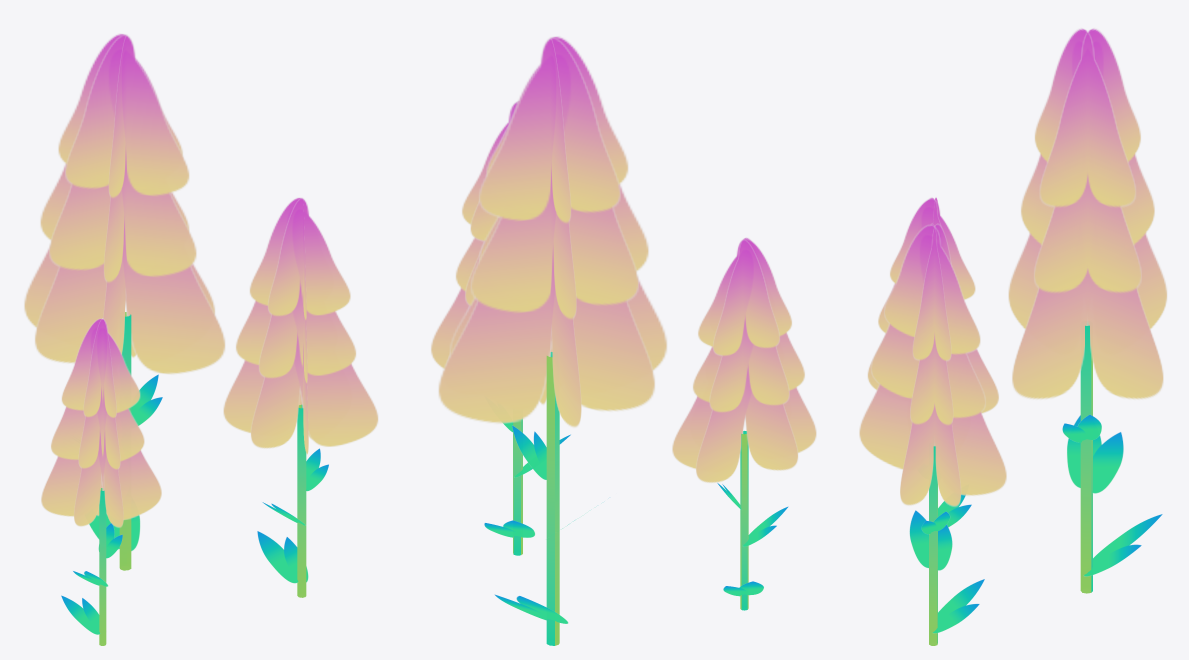
The model's file is Flowers_n02_11.glb.
3 views of the same model, side by side, from view 1: azimuth 30°, elevation 25°; view 2: azimuth 150°, elevation 25°; view 3: azimuth 270°, elevation 25° (orthographic). The views are drawn at different scales.
Visible parts, largest first — view 1: polySurface193; view 2: polySurface193; view 3: polySurface193.
Boxes of the visible parts, bbox=[...] form: polySurface193: bbox=[24, 33, 378, 645]; polySurface193: bbox=[430, 36, 816, 645]; polySurface193: bbox=[859, 28, 1167, 645].
Bounding box in the file's own units: 0.2696 × 0.4275 × 0.2157.
1 material, 1 textured.
